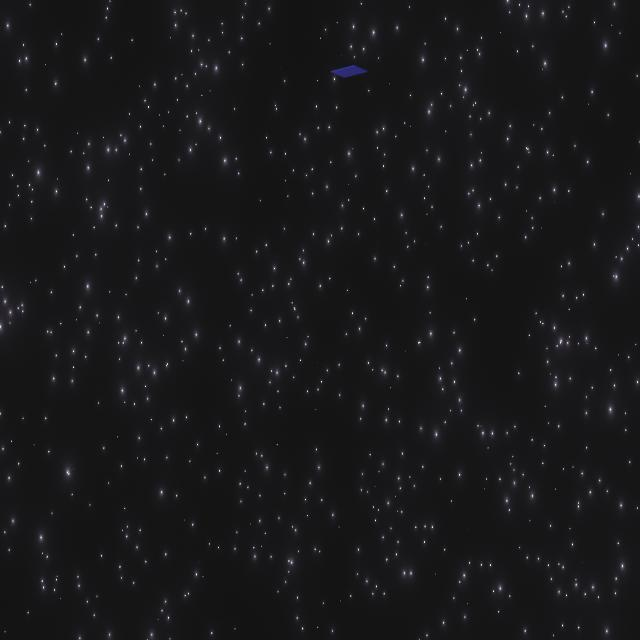large_debris: (330, 59, 366, 86)
